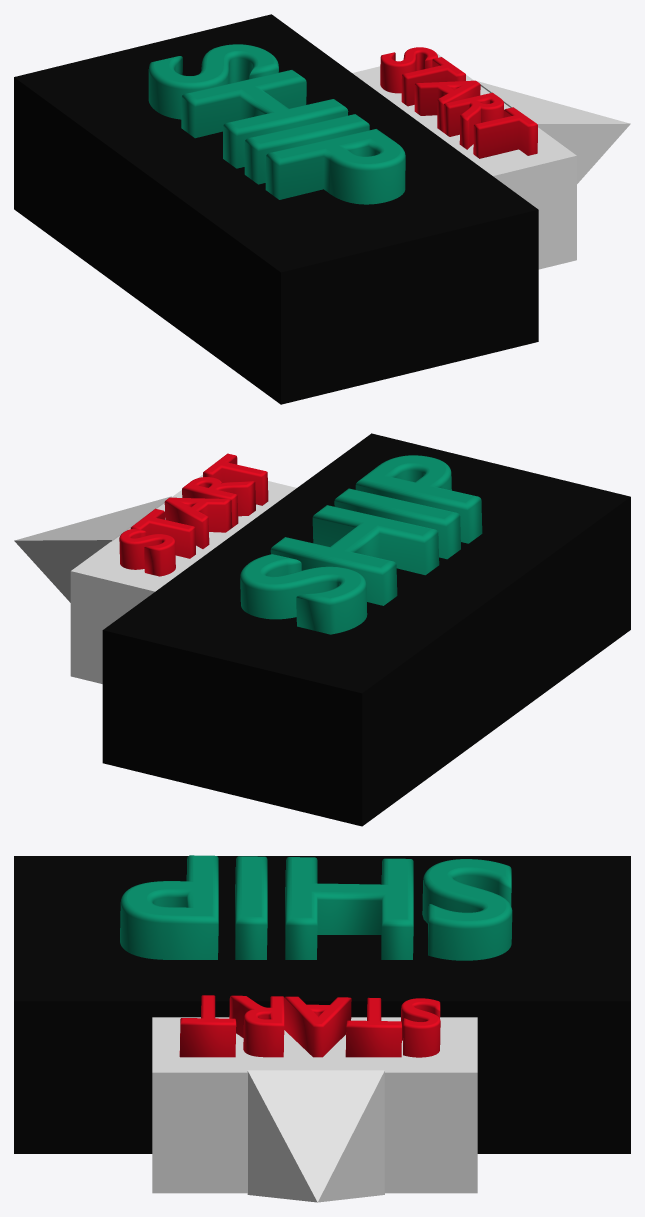
The model's file is Ship.fbx.
The picture shows the model from 3 angles, top to bottom: view 1: azimuth 30°, elevation 25°; view 2: azimuth 150°, elevation 25°; view 3: azimuth 270°, elevation 25°; orthographic projection. The views are drawn at different scales.
Parts seen in each view (by area): view 1: Cube, Text.002, Text.003, Cube.003, Cube.004; view 2: Cube, Text.002, Text.003, Cube.003, Cube.004; view 3: Cube, Cube.003, Text.002, Cube.004, Text.003.
Boxes of the visible parts, <box> form: Cube: <box>14,14,538,404</box>; Text.002: <box>148,44,405,204</box>; Text.003: <box>380,47,537,158</box>; Cube.003: <box>352,53,576,269</box>; Cube.004: <box>477,81,630,183</box>; Cube: <box>102,433,630,826</box>; Text.002: <box>240,455,482,634</box>; Text.003: <box>119,453,268,576</box>; Cube.003: <box>70,474,296,683</box>; Cube.004: <box>14,496,171,602</box>; Cube: <box>14,856,630,1153</box>; Cube.003: <box>152,1017,477,1193</box>; Text.002: <box>120,855,512,960</box>; Cube.004: <box>247,1070,384,1202</box>; Text.003: <box>179,995,440,1057</box>.
Bounding box in the file's own units: 762 × 258 × 732.
